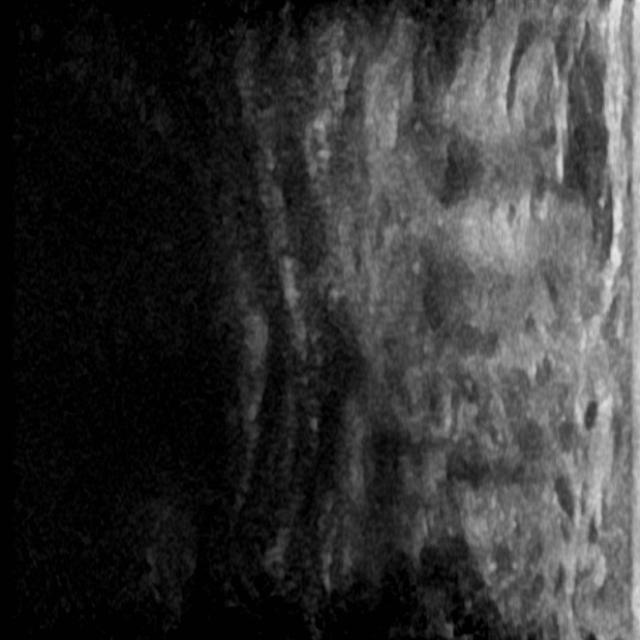Normal: (20, 15, 624, 617)
